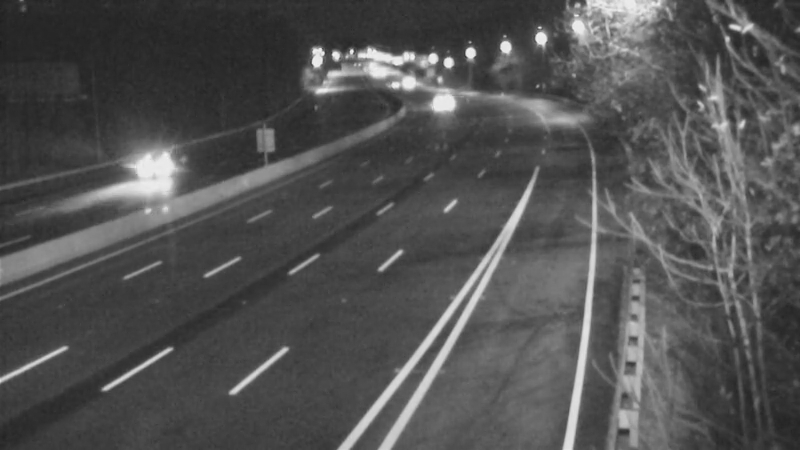vehicle: (132, 117, 212, 197), (383, 56, 433, 106), (367, 61, 417, 111), (412, 75, 462, 125)
